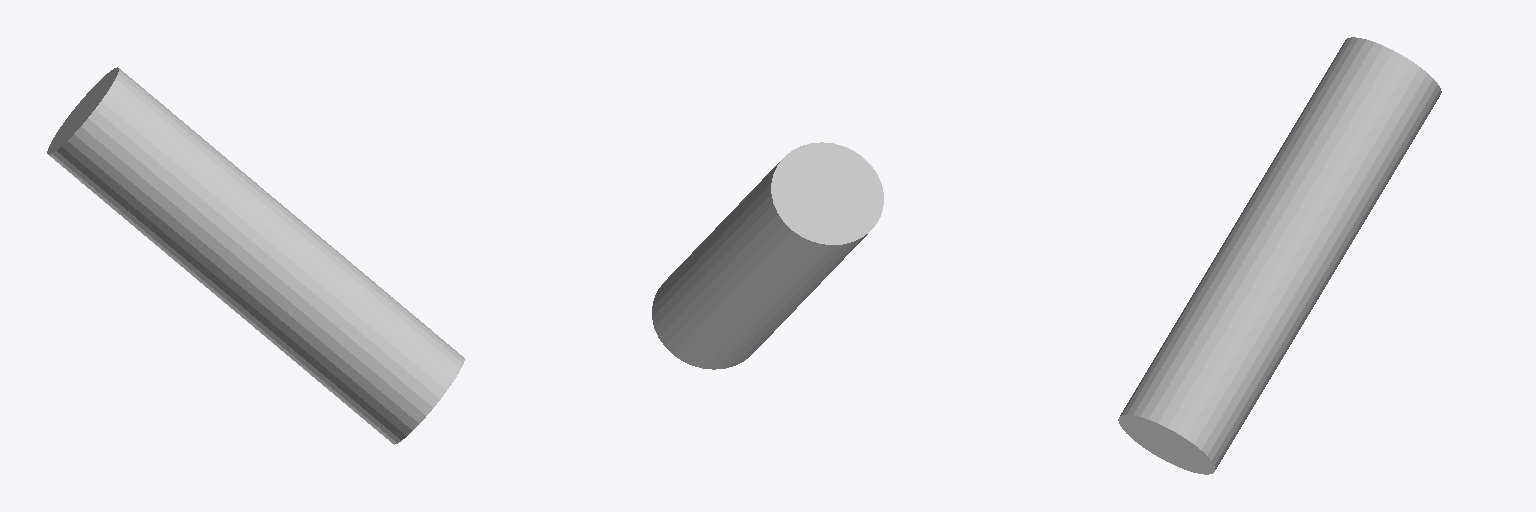
Rendered from mesh_upperleg_r4.obj.
3 renders of one model, left to right at view 1: azimuth 30°, elevation 25°; view 2: azimuth 150°, elevation 25°; view 3: azimuth 270°, elevation 25°, orthographic.
Parts seen in each view (by area): view 1: Cylinder.007_Cylinder.009; view 2: Cylinder.007_Cylinder.009; view 3: Cylinder.007_Cylinder.009.
Boxes of the visible parts, box(x1,y1,x2,y2) form: Cylinder.007_Cylinder.009: box(47, 67, 464, 444); Cylinder.007_Cylinder.009: box(652, 142, 883, 369); Cylinder.007_Cylinder.009: box(1118, 37, 1441, 474).
Bounding box in the file's own units: 0.6788 × 0.7015 × 0.6061.